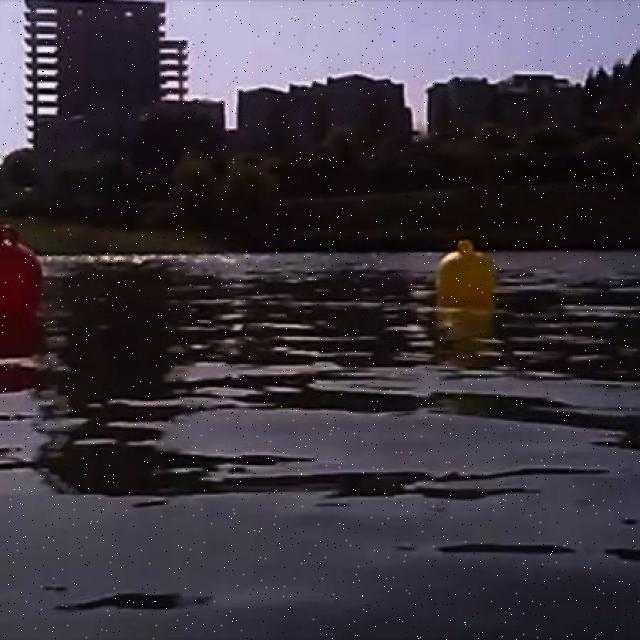buoy: (0, 229, 50, 320), (438, 240, 498, 305)
